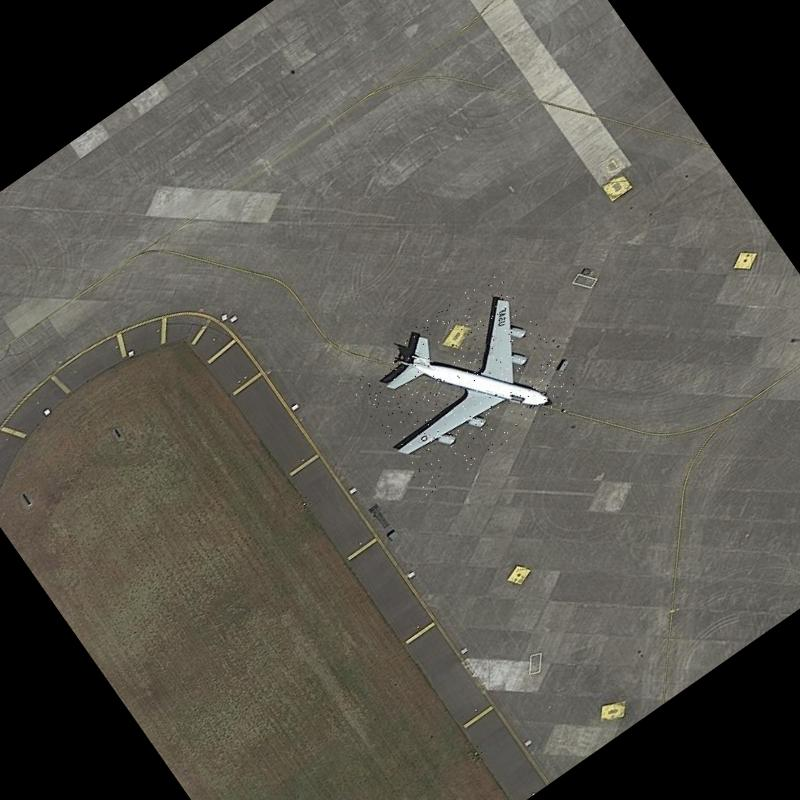A11: (343, 268, 584, 498)
